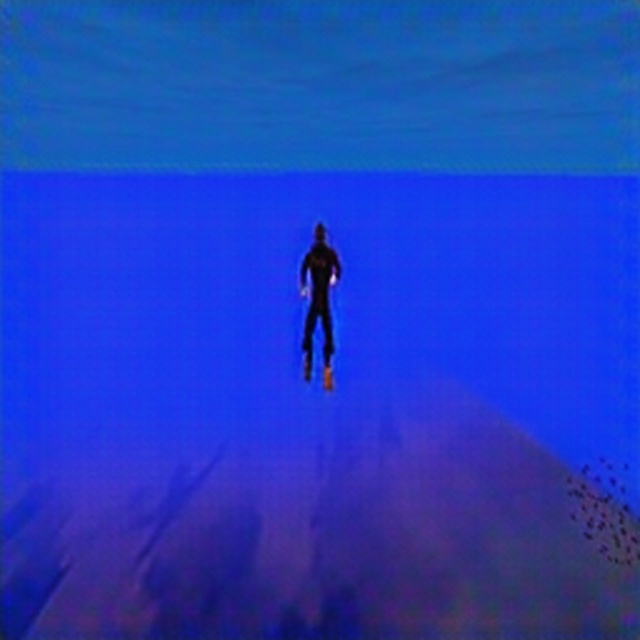diver: (296, 219, 344, 392)
